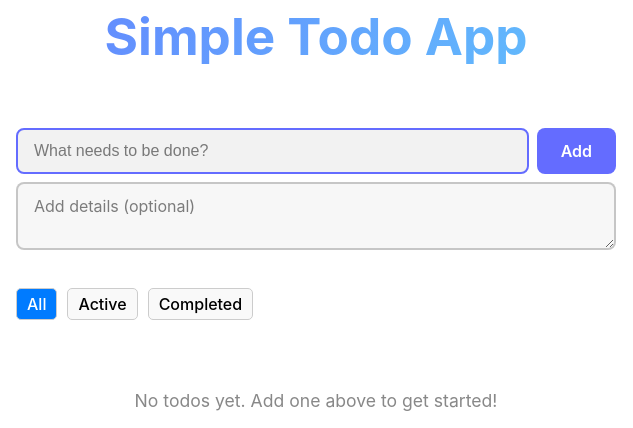
App › deletes a todo when delete button is clicked
This screenshot has width=633, height=428.
Type "Todo to delete" into the field with placeholder "What needs to be done?".
click(272, 151); type("Todo to delete")  # box top-left (16, 128), bottom-right (529, 174)
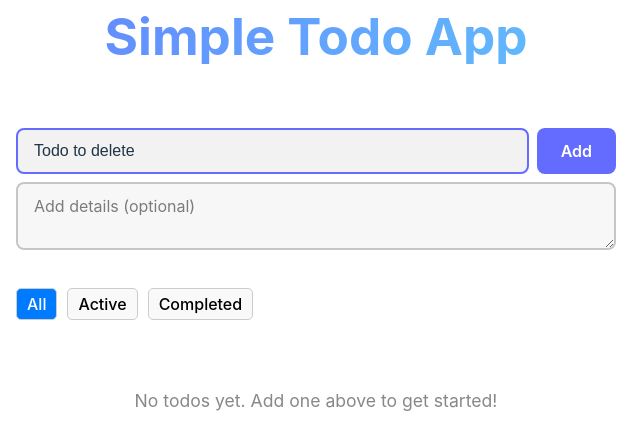
Click the button with aria-label "Add todo".
click(576, 151)  # box top-left (537, 128), bottom-right (616, 174)
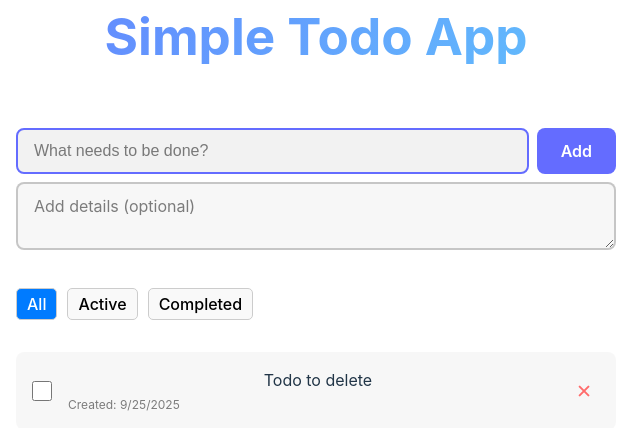
Expected: the text "Todo to delete" is shown, top-left (264, 370), bottom-right (372, 390)
Click the button named "Delete todo".
click(584, 391)  # box top-left (568, 371), bottom-right (600, 411)
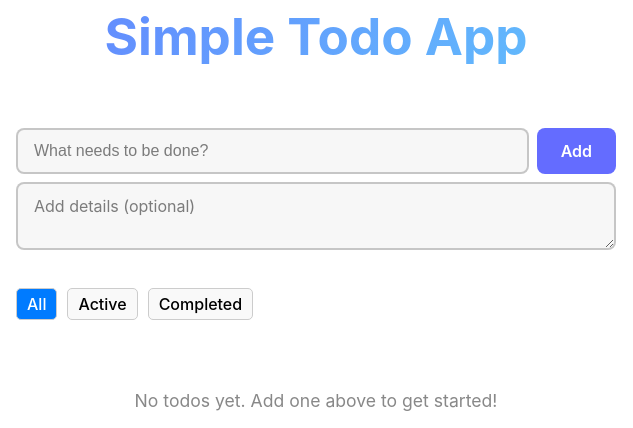
Expected: the text "Todo to delete" is gone
Expected: the text "No todos yet. Add one above to get started!" is shown, top-left (135, 390), bottom-right (497, 411)
